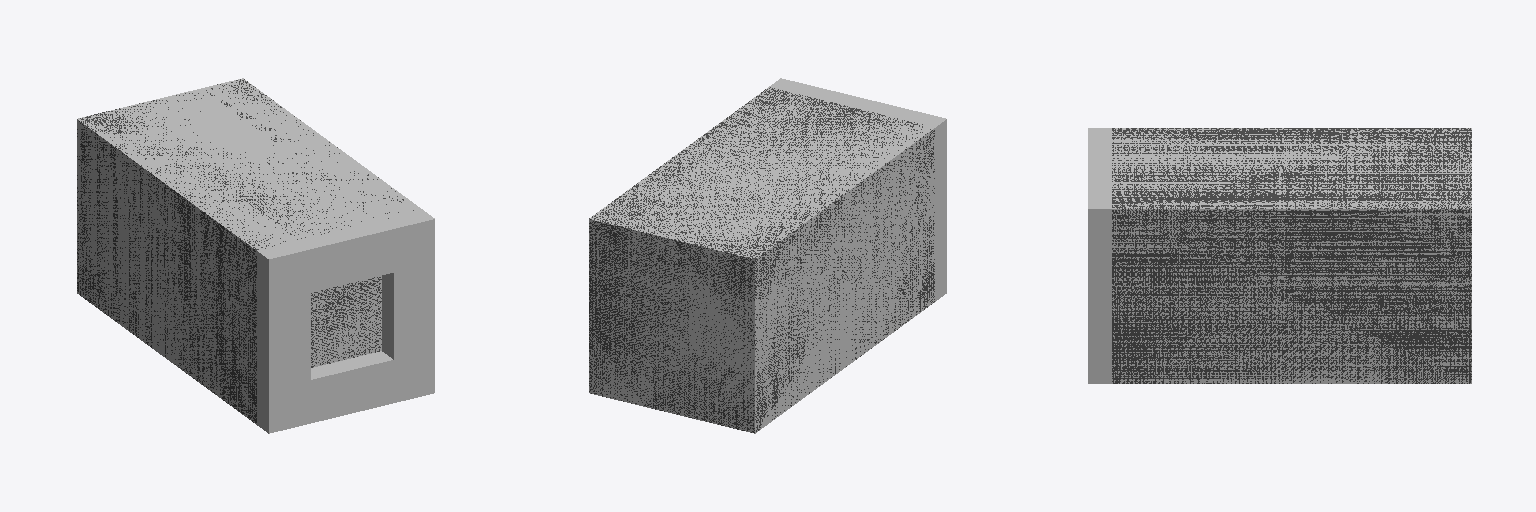
3 renders of one model, left to right at view 1: azimuth 30°, elevation 25°; view 2: azimuth 150°, elevation 25°; view 3: azimuth 270°, elevation 25°, orthographic.
Visible parts, largest first — view 1: rb, lb, center, t, b, lt, l, r, rt; view 2: center, lb, t, l, b, lt, rb, r, rt; view 3: center, t, lb, r, rb, l, b, rt.
Boxes of the visible parts, box(x1,y1,x2,y2) form: rb: box(78, 78, 434, 363); lb: box(77, 80, 434, 432); center: box(77, 79, 413, 422); t: box(77, 78, 434, 421); b: box(77, 119, 401, 379); lt: box(78, 166, 381, 433); l: box(77, 79, 381, 433); r: box(77, 120, 434, 422); rt: box(320, 263, 434, 402); center: box(589, 87, 934, 432); lb: box(589, 87, 946, 433); t: box(589, 78, 946, 431); l: box(589, 89, 946, 433); b: box(589, 88, 934, 388); lt: box(589, 164, 946, 432); rb: box(589, 78, 910, 385); r: box(589, 220, 934, 431); rt: box(589, 275, 754, 431); center: box(1112, 128, 1471, 383); t: box(1088, 128, 1471, 383); lb: box(1088, 128, 1471, 383); r: box(1088, 209, 1471, 383); rb: box(1088, 128, 1471, 339); l: box(1093, 128, 1471, 383); b: box(1113, 128, 1463, 207); rt: box(1088, 273, 1470, 383).
Bounding box in the file's own units: 0.5 × 0.5 × 1.
3 materials, 1 textured.